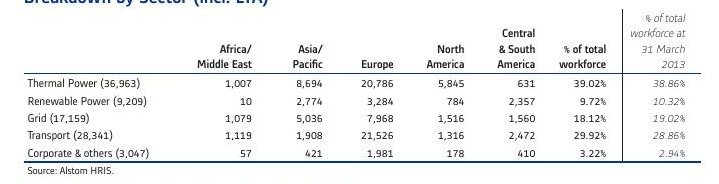table: (0, 0, 719, 184)
